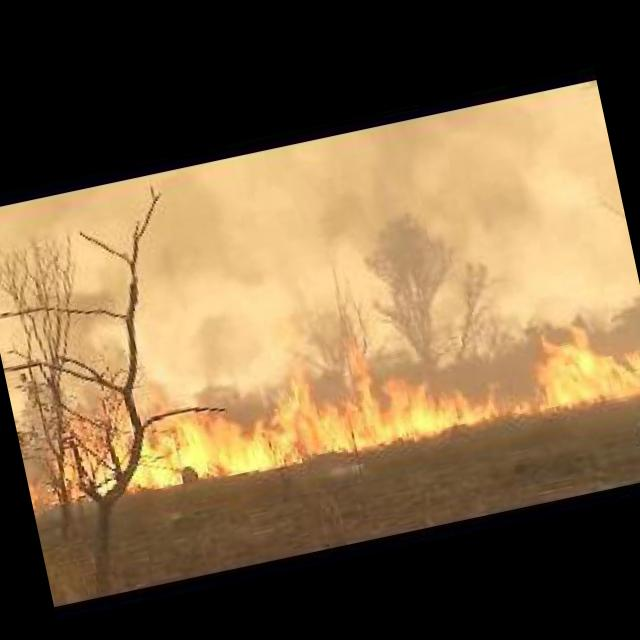fire: (40, 330, 502, 510), (502, 318, 640, 423), (26, 473, 45, 515)
